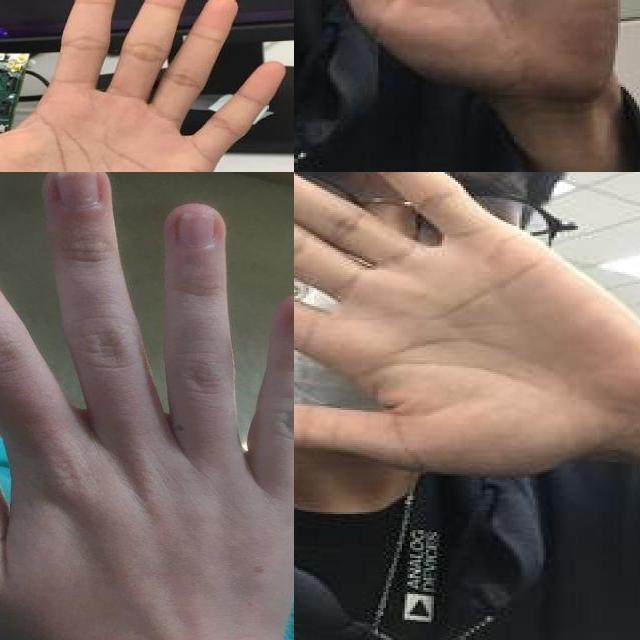hand: (0, 172, 294, 640), (294, 172, 640, 482), (294, 0, 640, 172), (0, 0, 291, 172)
